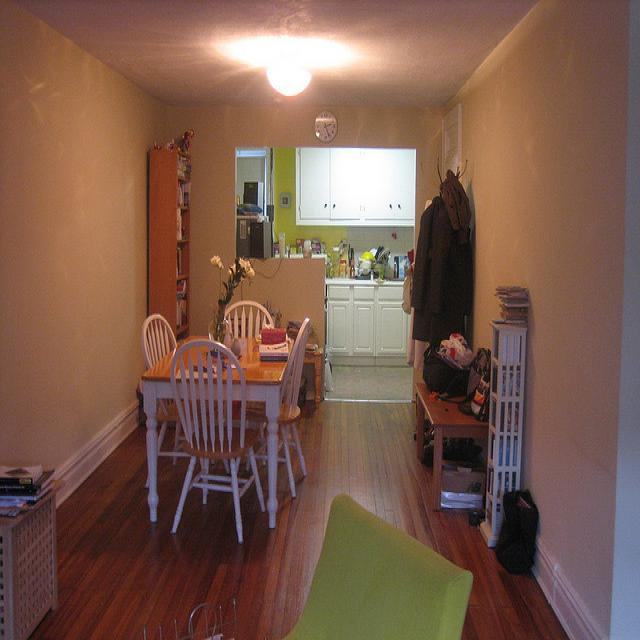chair: (172, 341, 267, 544), (254, 317, 310, 499), (142, 314, 194, 489), (224, 301, 276, 339)
dining table: (139, 329, 290, 532)
